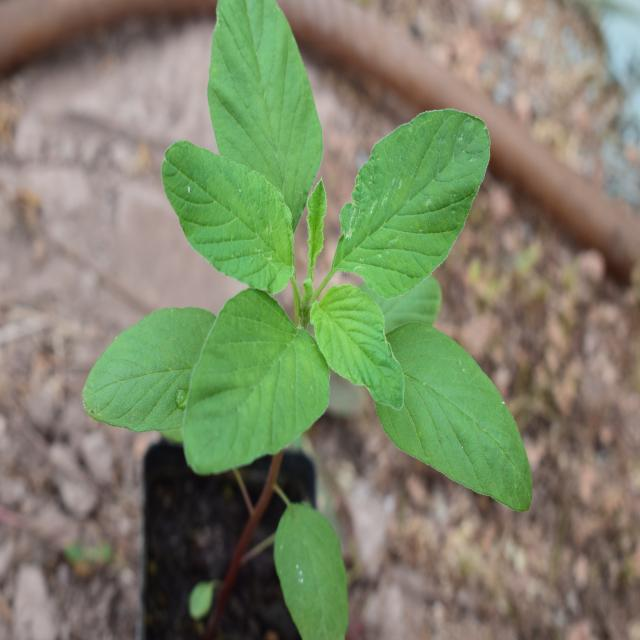pigweed: (114, 6, 523, 535)
